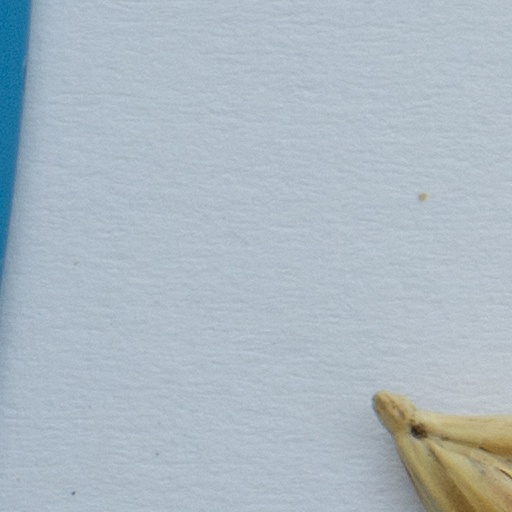Peel-poly: (374, 389, 511, 511)
